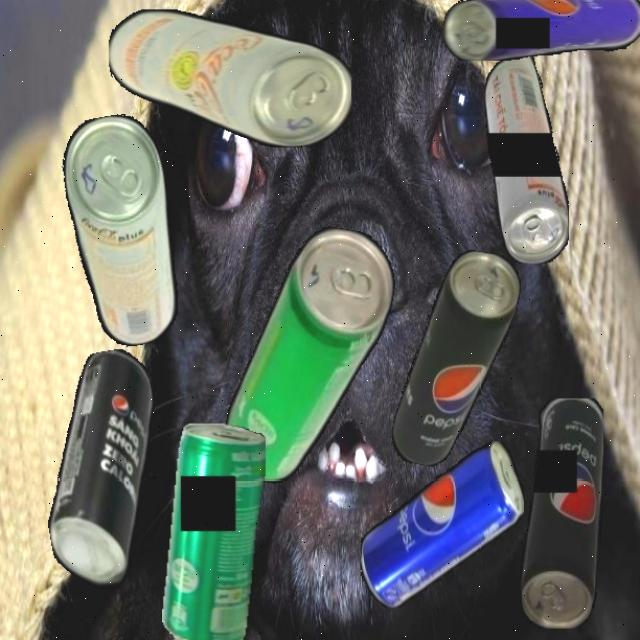debris: (218, 215, 402, 498), (21, 345, 185, 603), (108, 9, 351, 148), (54, 109, 192, 352), (388, 242, 525, 476), (360, 440, 524, 608), (162, 422, 266, 640), (519, 398, 603, 628), (484, 47, 569, 264), (442, 0, 640, 61)
